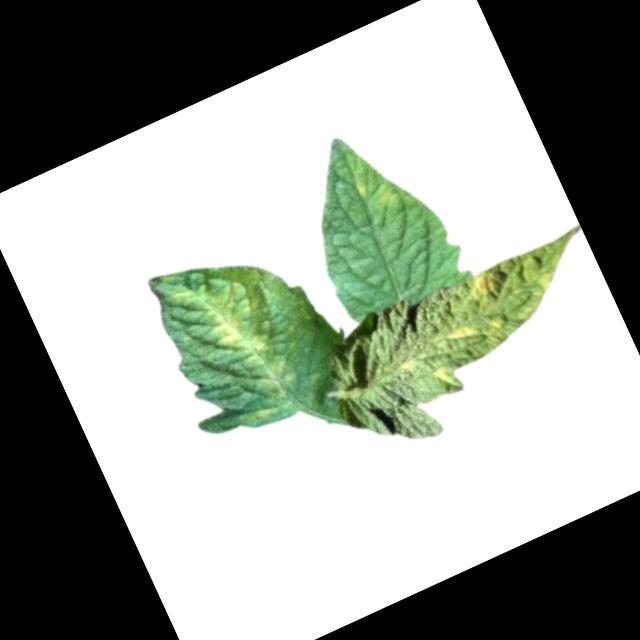Leaf_Mold: (170, 255, 317, 439), (423, 233, 595, 367), (351, 164, 408, 220)
